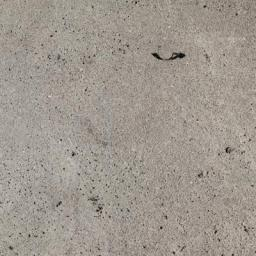FOD: (148, 49, 192, 66)
